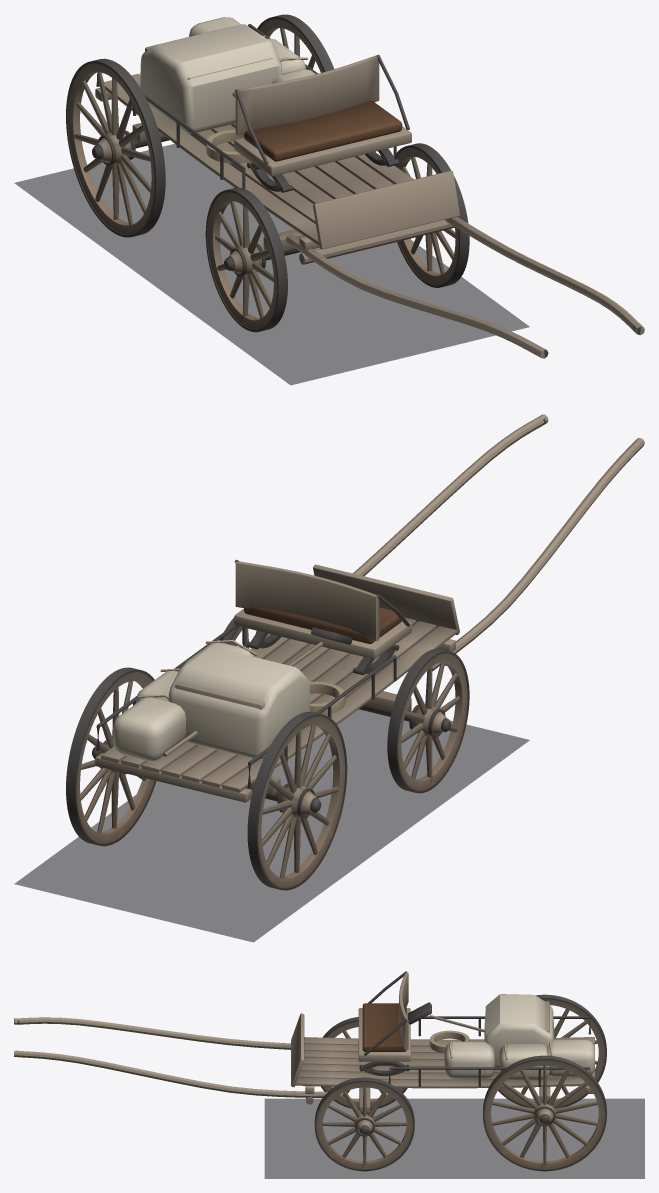
The model's file is visitor_common_single.glb.
3 renders of one model, top to bottom at view 1: azimuth 30°, elevation 25°; view 2: azimuth 150°, elevation 25°; view 3: azimuth 270°, elevation 25°, orthographic. The views are drawn at different scales.
Visible parts, largest first — view 1: visitor_common_single; view 2: visitor_common_single; view 3: visitor_common_single.
Part boxes in pixels (box(x1,y1,x2,y2)): visitor_common_single: box(14, 14, 644, 385); visitor_common_single: box(15, 414, 644, 942); visitor_common_single: box(14, 971, 644, 1178).
Bounding box in the file's own units: 1.9 × 1.59 × 6.3.
